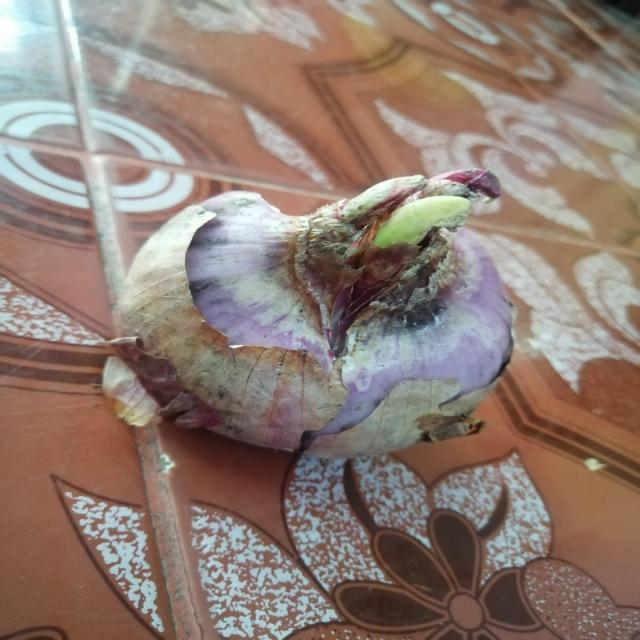sprouting: (371, 178, 465, 290)
